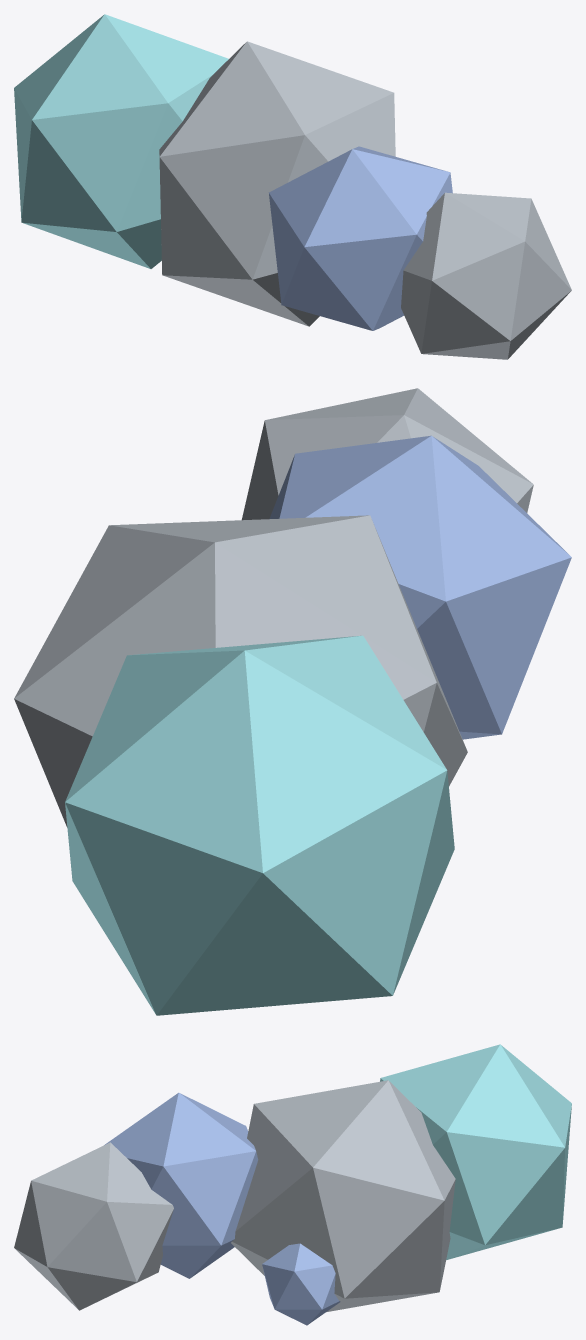
File: cloud2.fbx
3 views of the same model, one above another, from view 1: azimuth 30°, elevation 25°; view 2: azimuth 150°, elevation 25°; view 3: azimuth 270°, elevation 25° (orthographic). The views are drawn at different scales.
Parts seen in each view (by area): view 1: Icosphere, Icosphere.001, Icosphere.002, Icosphere.003; view 2: Icosphere.001, Icosphere, Icosphere.002, Icosphere.003; view 3: Icosphere, Icosphere.001, Icosphere.003, Icosphere.002, Icosphere.004.
Part boxes in pixels (x1=…): Icosphere: x1=159, y1=41, x2=395, y2=326; Icosphere.001: x1=14, y1=14, x2=228, y2=268; Icosphere.002: x1=269, y1=146, x2=452, y2=330; Icosphere.003: x1=401, y1=192, x2=571, y2=359; Icosphere.001: x1=65, y1=635, x2=454, y2=1015; Icosphere: x1=14, y1=515, x2=467, y2=827; Icosphere.002: x1=269, y1=435, x2=571, y2=739; Icosphere.003: x1=241, y1=388, x2=533, y2=520; Icosphere: x1=231, y1=1080, x2=455, y2=1312; Icosphere.001: x1=380, y1=1044, x2=571, y2=1259; Icosphere.003: x1=14, y1=1142, x2=173, y2=1310; Icosphere.002: x1=104, y1=1092, x2=258, y2=1278; Icosphere.004: x1=262, y1=1243, x2=340, y2=1325.
Bounding box in the file's own units: 245 × 190 × 419.
